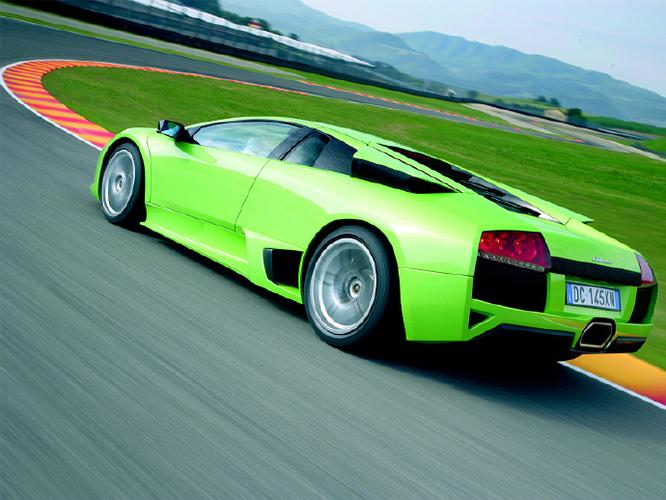汽车: (73, 112, 666, 399)
